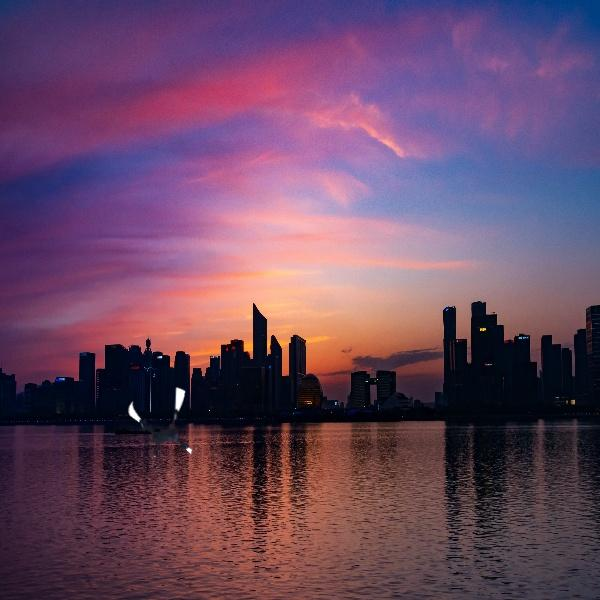drone: (123, 385, 203, 465)
